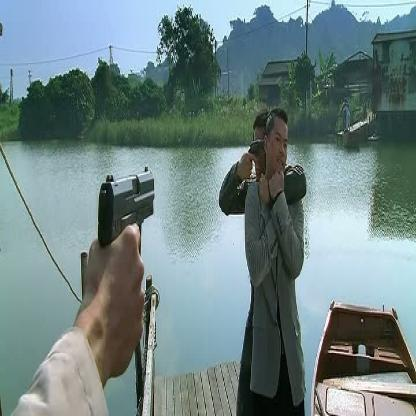gun: (90, 146, 161, 244), (244, 123, 267, 170)
